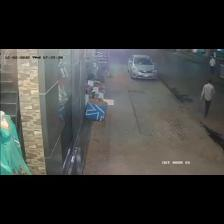person: (201, 80, 214, 117), (210, 56, 215, 74)
